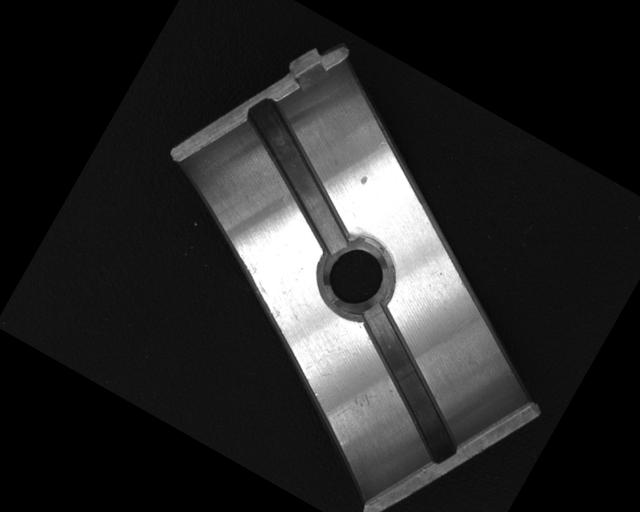bruise: (358, 173, 371, 186)
gap: (319, 300, 500, 467), (207, 93, 388, 258)
hole: (311, 230, 404, 326)
